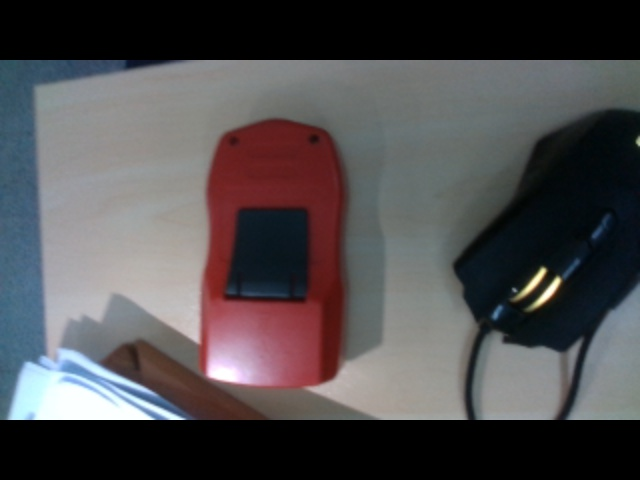Multimeter: (198, 116, 342, 386)
Screw holes: (305, 133, 323, 147), (228, 136, 240, 146)
